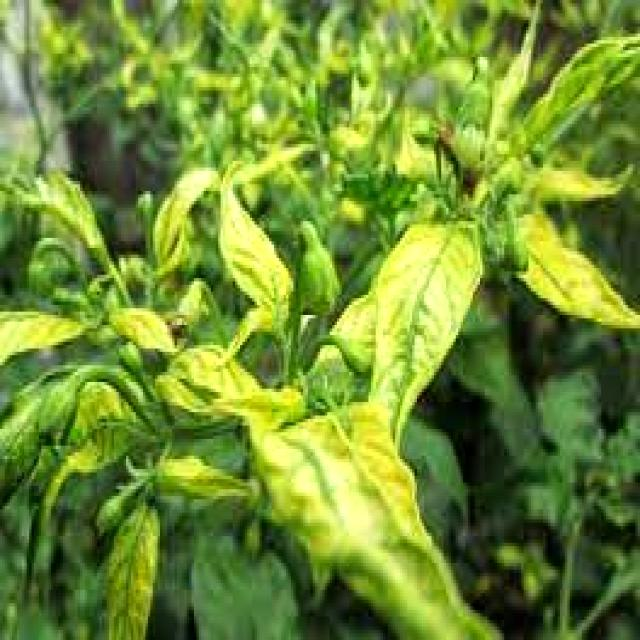yellowish leaf: (221, 370, 526, 640), (366, 198, 488, 464), (100, 302, 317, 432), (210, 155, 305, 349), (509, 215, 640, 345), (454, 15, 546, 161), (497, 132, 640, 208), (150, 164, 220, 292), (101, 496, 161, 637), (8, 282, 80, 374), (226, 136, 318, 204), (153, 449, 253, 508), (388, 112, 447, 186), (102, 302, 178, 354), (314, 5, 356, 85), (328, 112, 381, 166), (347, 55, 382, 130), (186, 64, 247, 102), (425, 53, 473, 93)
